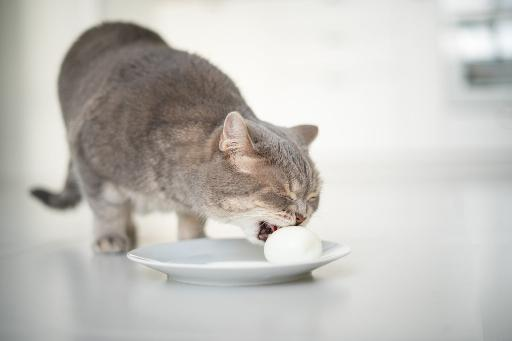cat_eating: (32, 23, 348, 285)
